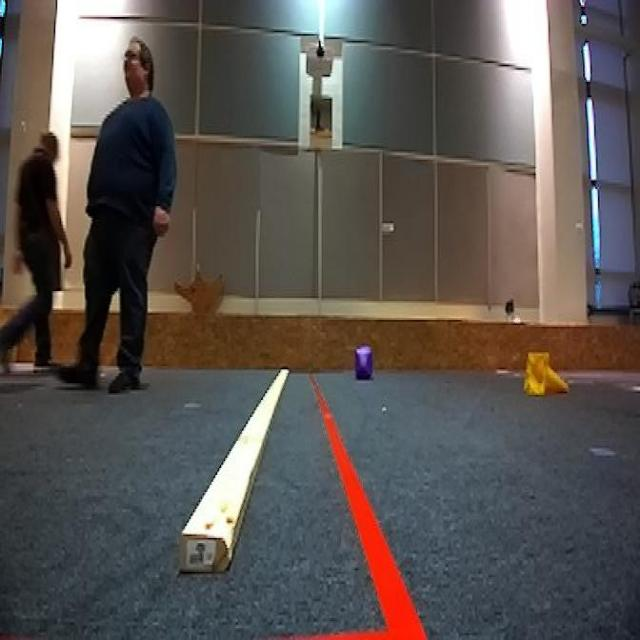frc_cone: (524, 349, 566, 397)
frc_cube: (356, 347, 374, 380)
